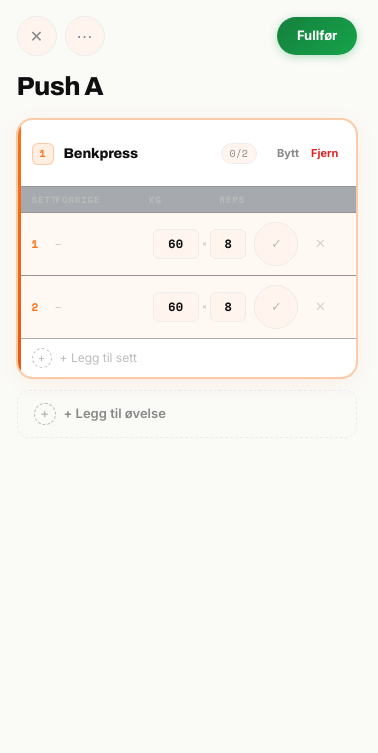
Test: WorkoutPage › ✕ etter at et sett logges i session: to-steg
Logg et sett i UI
Click the button named "Marker som fullført": (276, 244) [254,222,298,266]
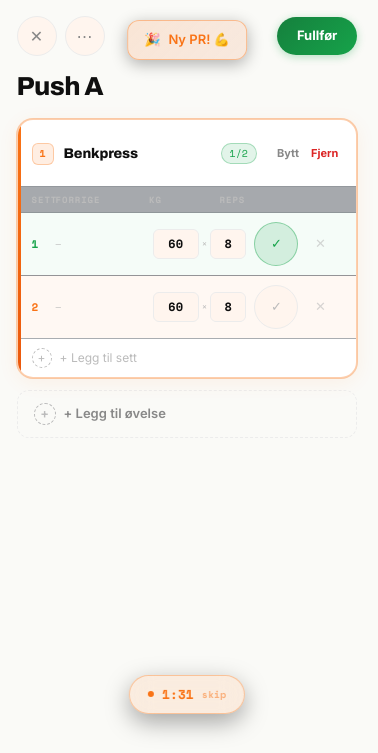
Nå skal ✕ vise bekreft-knapp
Click the button named "Forkast økt": (37, 36) [17,16,57,56]
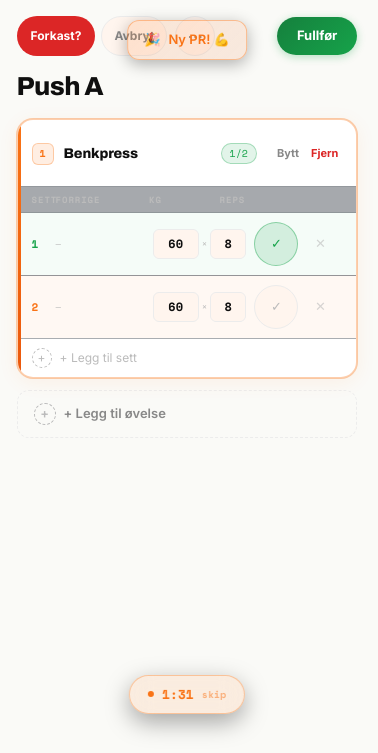
Now the button with aria-label "Bekreft forkast" is shown, box [17,16,96,56]
